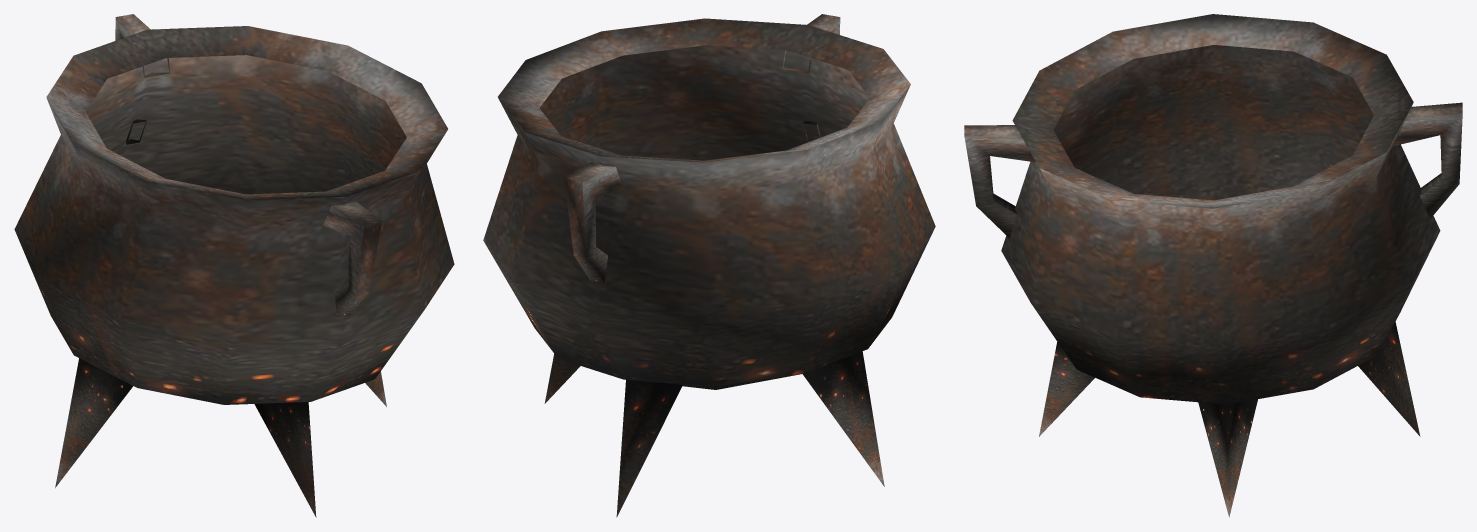
Rendered from cauldronempty.obj.
3 renders of one model, left to right at view 1: azimuth 30°, elevation 25°; view 2: azimuth 150°, elevation 25°; view 3: azimuth 270°, elevation 25°, orthographic. The views are drawn at different scales.
Parts seen in each view (by area): view 1: cauldronempty0; view 2: cauldronempty0; view 3: cauldronempty0.
Part boxes in pixels (x1=…): cauldronempty0: x1=14, y1=14, x2=454, y2=517; cauldronempty0: x1=483, y1=14, x2=935, y2=517; cauldronempty0: x1=964, y1=14, x2=1462, y2=517.
Size of the model in its own units: 1.78 by 1.57 by 2.02.
Materials: 1 (1 with a texture image).
